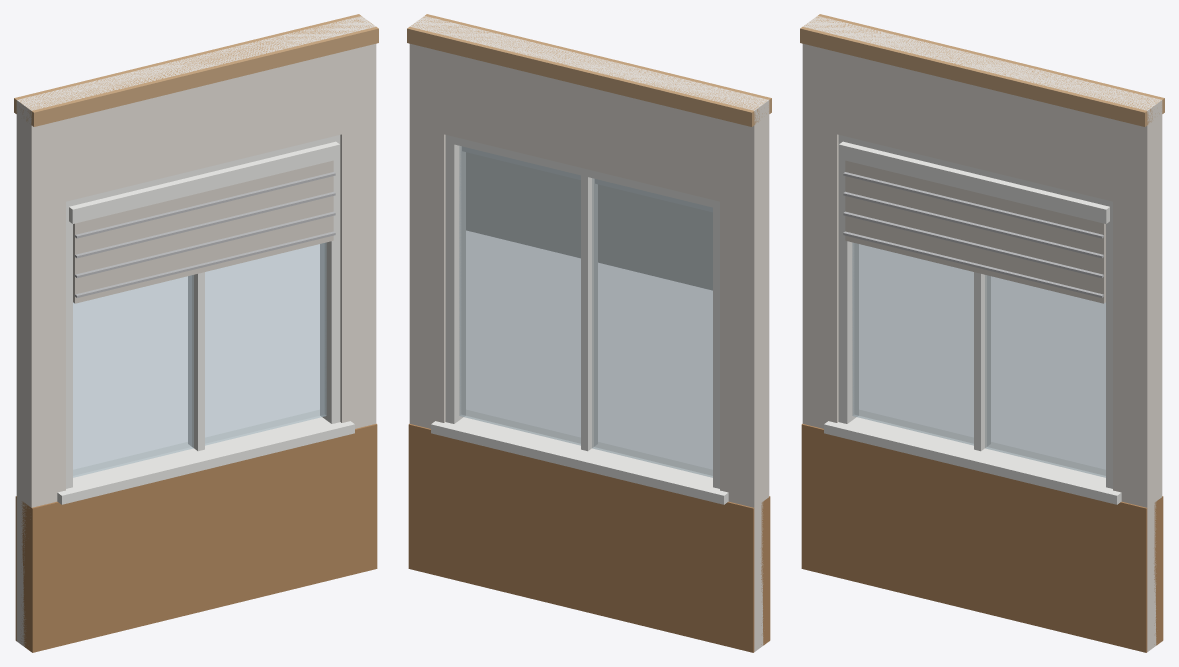
Rendered from wall_window.glb.
The picture shows the model from 3 angles, left to right: view 1: azimuth 30°, elevation 25°; view 2: azimuth 150°, elevation 25°; view 3: azimuth 330°, elevation 25°; orthographic projection.
Parts seen in each view (by area): view 1: wall_window, wall_window_glass; view 2: wall_window, wall_window_glass; view 3: wall_window, wall_window_glass.
Part boxes in pixels (bbox=[...]): wall_window: bbox=[14, 14, 378, 652]; wall_window_glass: bbox=[73, 242, 326, 477]; wall_window: bbox=[407, 14, 771, 652]; wall_window_glass: bbox=[459, 146, 712, 477]; wall_window: bbox=[800, 14, 1164, 652]; wall_window_glass: bbox=[852, 242, 1105, 477].
Bounding box in the file's own units: 2 × 3 × 0.24.
2 materials, 1 textured.
